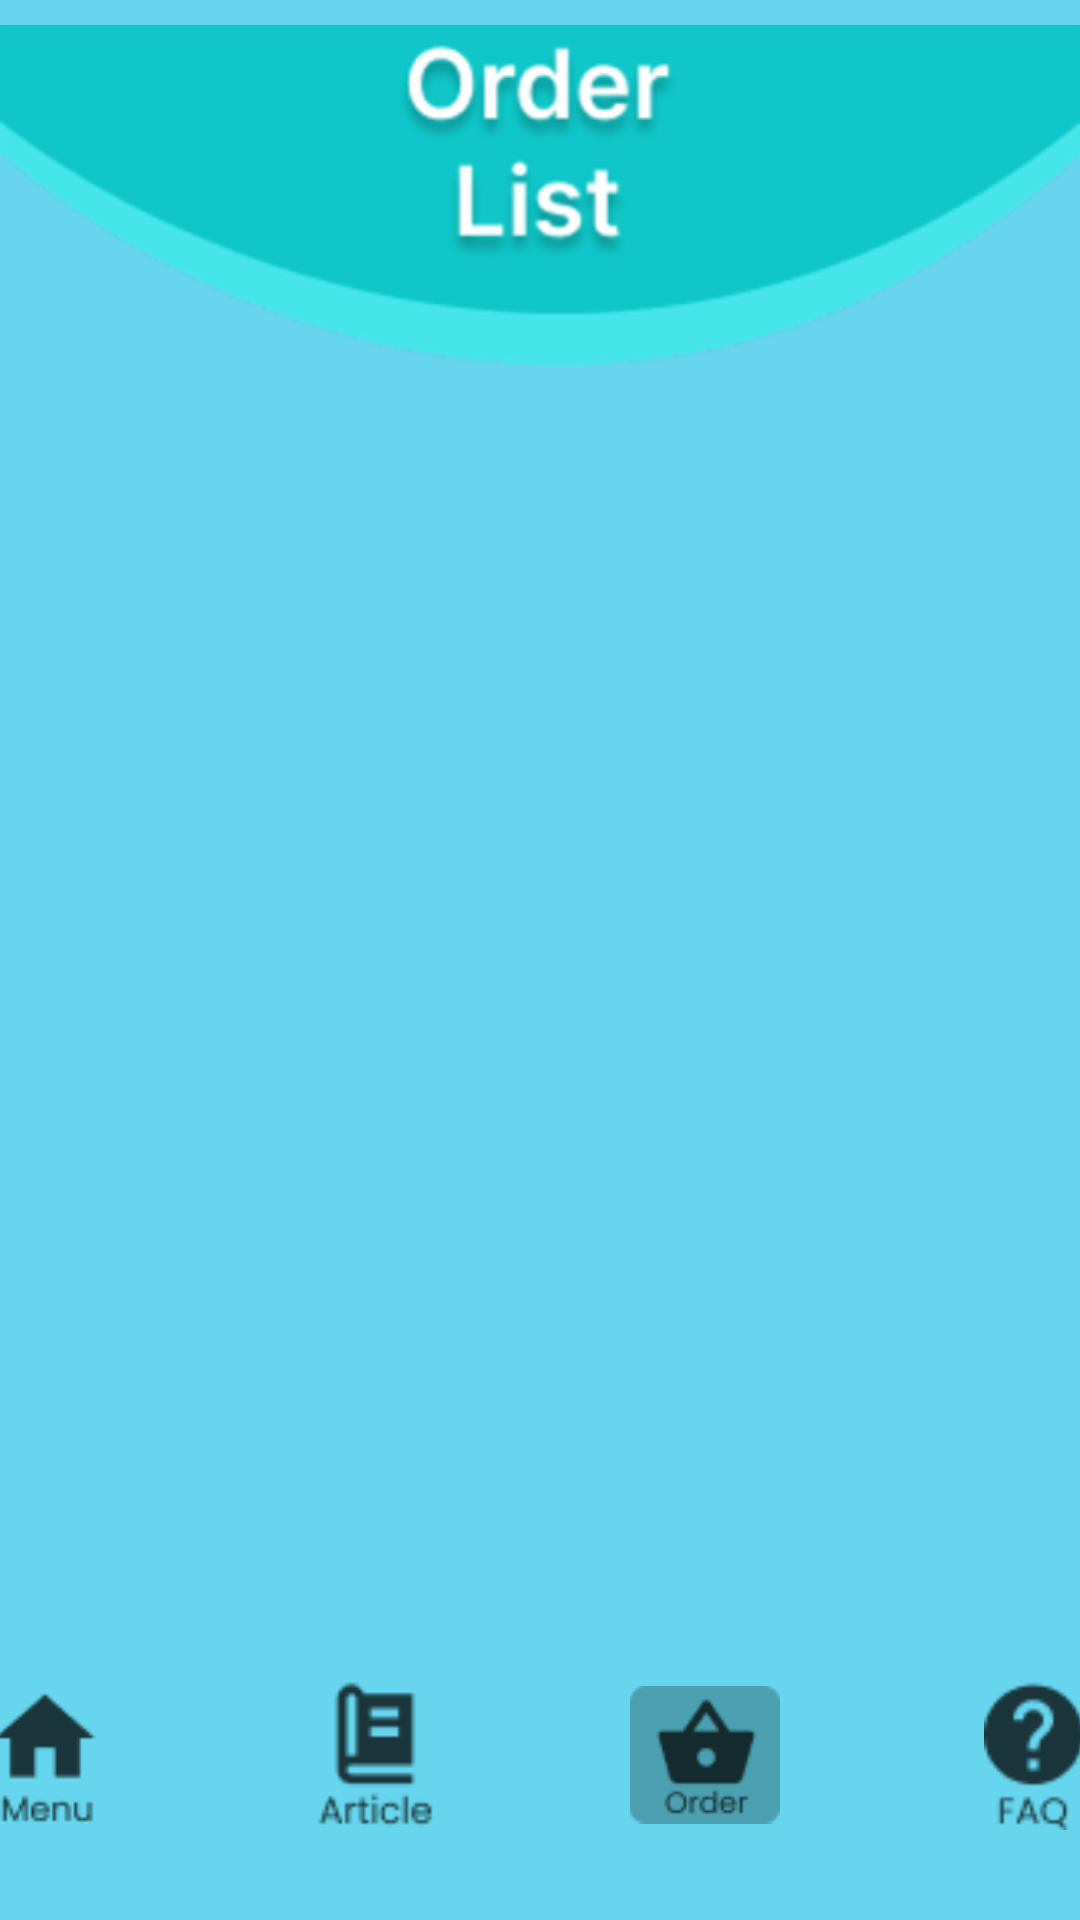

Icons on this 1080x1920 Android screen, each with its box as (x1, y1, x2, y2):
highlightbasket: (630, 1686, 780, 1824)
